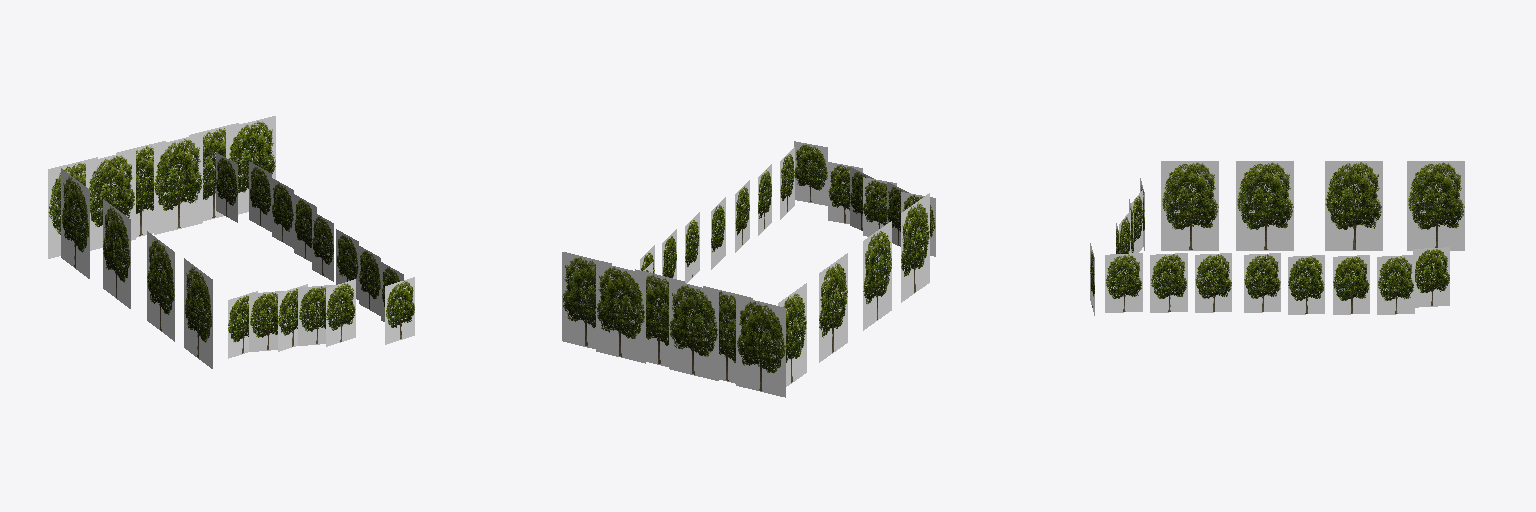
3 views of the same model, side by side, from view 1: azimuth 30°, elevation 25°; view 2: azimuth 150°, elevation 25°; view 3: azimuth 270°, elevation 25° (orthographic).
Parts seen in each view (by area): view 1: Plane438, Plane433, Plane440, Plane428, Plane434, Plane429, Plane431, Plane410, Plane447, Plane442, Plane437, Plane443 (+11 smaller); view 2: Plane439, Plane436, Plane437, Plane440, Plane429, Plane431, Plane428, Plane438, Plane447, Plane434, Plane433, Plane410 (+10 smaller); view 3: Plane428, Plane429, Plane431, Plane434, Plane413, Plane423, Plane415, Plane417, Plane419, Plane421, Plane427, Plane425 (+1 smaller).
Boxes of the visible parts, x1,y1,x2,y2 form: Plane438: [154, 133, 202, 234]; Plane433: [86, 150, 135, 250]; Plane440: [226, 116, 275, 217]; Plane428: [184, 258, 212, 368]; Plane434: [61, 168, 89, 278]; Plane429: [147, 231, 174, 341]; Plane431: [103, 199, 130, 308]; Plane410: [326, 279, 355, 346]; Plane447: [385, 277, 414, 344]; Plane442: [249, 291, 283, 351]; Plane437: [116, 141, 165, 237]; Plane443: [298, 285, 334, 345]; Plane439: [596, 262, 645, 363]; Plane436: [736, 296, 785, 397]; Plane437: [669, 280, 718, 380]; Plane440: [562, 252, 611, 348]; Plane429: [863, 221, 891, 330]; Plane431: [819, 253, 847, 362]; Plane428: [901, 193, 929, 302]; Plane438: [635, 269, 684, 366]; Plane447: [794, 141, 827, 205]; Plane434: [778, 283, 806, 386]; Plane433: [703, 286, 752, 383]; Plane410: [828, 162, 862, 223]; Plane428: [1161, 161, 1218, 250]; Plane429: [1236, 161, 1293, 250]; Plane431: [1325, 161, 1382, 250]; Plane434: [1407, 161, 1464, 250]; Plane413: [1105, 253, 1142, 312]; Plane423: [1377, 255, 1414, 314]; Plane415: [1150, 253, 1187, 312]; Plane417: [1195, 253, 1231, 312]; Plane419: [1244, 253, 1280, 312]; Plane421: [1333, 255, 1369, 314]; Plane427: [1288, 255, 1324, 314]; Plane425: [1413, 247, 1449, 307].
Size of the model in its own units: 115 by 43.69 by 167.
Materials: 1 (1 with a texture image).